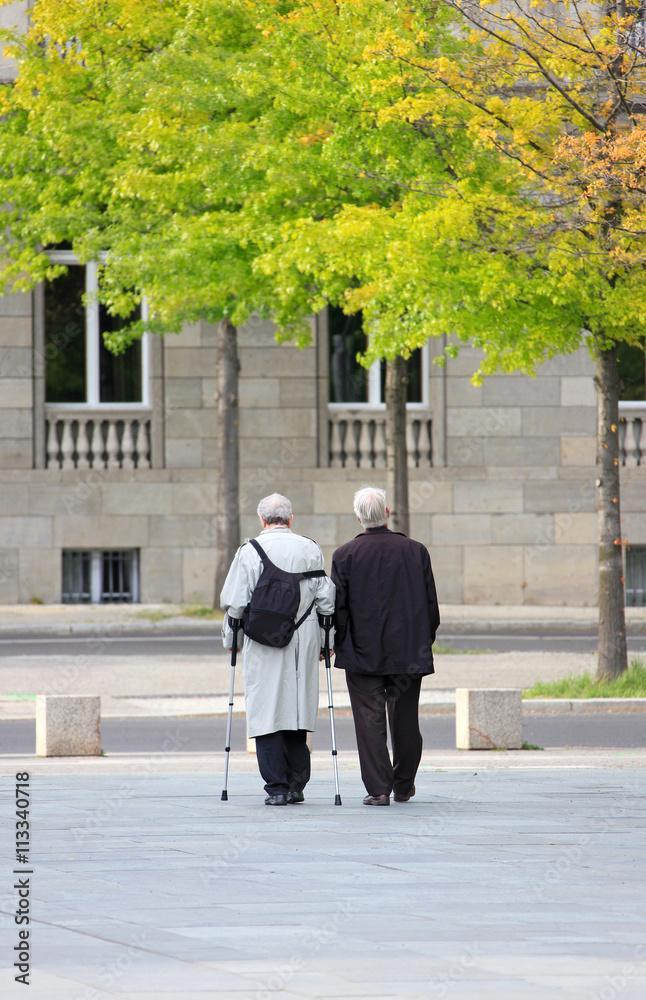crutches: (209, 489, 347, 819)
